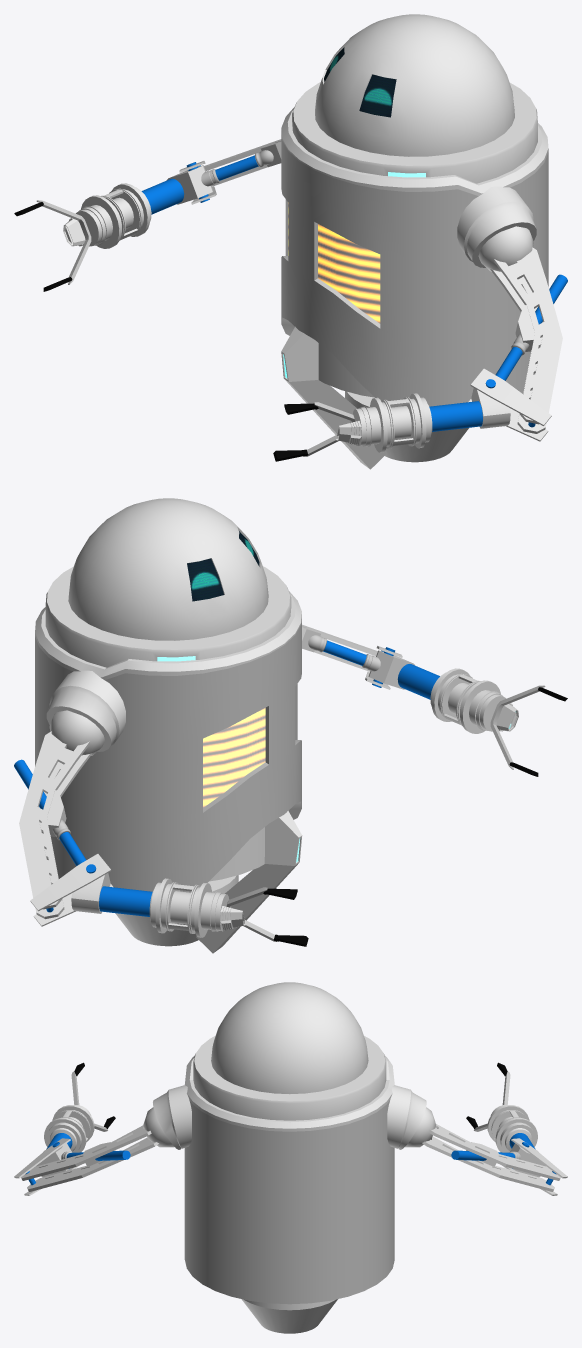
Rendered from Wobot_V2.9.fbx.
3 renders of one model, top to bottom at view 1: azimuth 30°, elevation 25°; view 2: azimuth 150°, elevation 25°; view 3: azimuth 270°, elevation 25°, orthographic. The views are drawn at different scales.
Parts seen in each view (by area): view 1: Body, Head, L_UpperArm, Shoulders, R_UnderArm, L_UnderArm, L_Hinge, L_UnderArmCylinder, R_UnderArmCylinder, L_Elbow, R_Elbow, L_Cylinder (+1 smaller); view 2: Body, Head, R_UpperArm, Shoulders, L_UnderArm, R_UnderArm, R_Hinge, R_UnderArmCylinder, L_UnderArmCylinder, R_Elbow, L_Elbow, R_Cylinder (+1 smaller); view 3: Body, Head, Shoulders, R_UpperArm, L_UpperArm, L_UnderArm, R_UnderArm, L_Hinge, R_Hinge, L_UnderArmCylinderConnect, R_UnderArmCylinderConnect.
Boxes of the visible parts, left/top/right/bottom form: Body: left=281, top=82, right=548, bottom=469; Head: left=315, top=14, right=514, bottom=156; L_UpperArm: left=490, top=247, right=562, bottom=433; Shoulders: left=457, top=186, right=536, bottom=271; R_UnderArm: left=76, top=183, right=150, bottom=248; L_UnderArm: left=352, top=393, right=426, bottom=452; L_Hinge: left=468, top=368, right=551, bottom=441; L_UnderArmCylinder: left=429, top=401, right=482, bottom=431; R_UnderArmCylinder: left=141, top=178, right=184, bottom=214; L_Elbow: left=471, top=388, right=510, bottom=428; R_Elbow: left=166, top=165, right=213, bottom=204; L_Cylinder: left=495, top=274, right=567, bottom=380; Body: left=35, top=566, right=302, bottom=953; Head: left=68, top=498, right=268, bottom=640; R_UpperArm: left=19, top=731, right=92, bottom=919; Shoulders: left=46, top=670, right=125, bottom=755; L_UnderArm: left=431, top=668, right=506, bottom=733; R_UnderArm: left=155, top=878, right=229, bottom=937; R_Hinge: left=30, top=854, right=113, bottom=926; R_UnderArmCylinder: left=99, top=886, right=152, bottom=916; L_UnderArmCylinder: left=397, top=664, right=439, bottom=699; R_Elbow: left=71, top=873, right=110, bottom=913; L_Elbow: left=368, top=650, right=414, bottom=689; R_Cylinder: left=14, top=759, right=86, bottom=865; Body: left=184, top=1036, right=394, bottom=1333; Head: left=211, top=982, right=368, bottom=1094; Shoulders: left=143, top=1085, right=435, bottom=1149; R_UpperArm: left=422, top=1124, right=560, bottom=1191; L_UpperArm: left=21, top=1125, right=158, bottom=1191; L_UnderArm: left=44, top=1105, right=94, bottom=1152; R_UnderArm: left=487, top=1105, right=537, bottom=1152; L_Hinge: left=14, top=1138, right=79, bottom=1195; R_Hinge: left=502, top=1138, right=567, bottom=1195; L_UnderArmCylinderConnect: left=46, top=1122, right=81, bottom=1152; R_UnderArmCylinderConnect: left=500, top=1122, right=535, bottom=1152.
Bounding box in the file's own units: 3.28 × 3.55 × 5.28.
